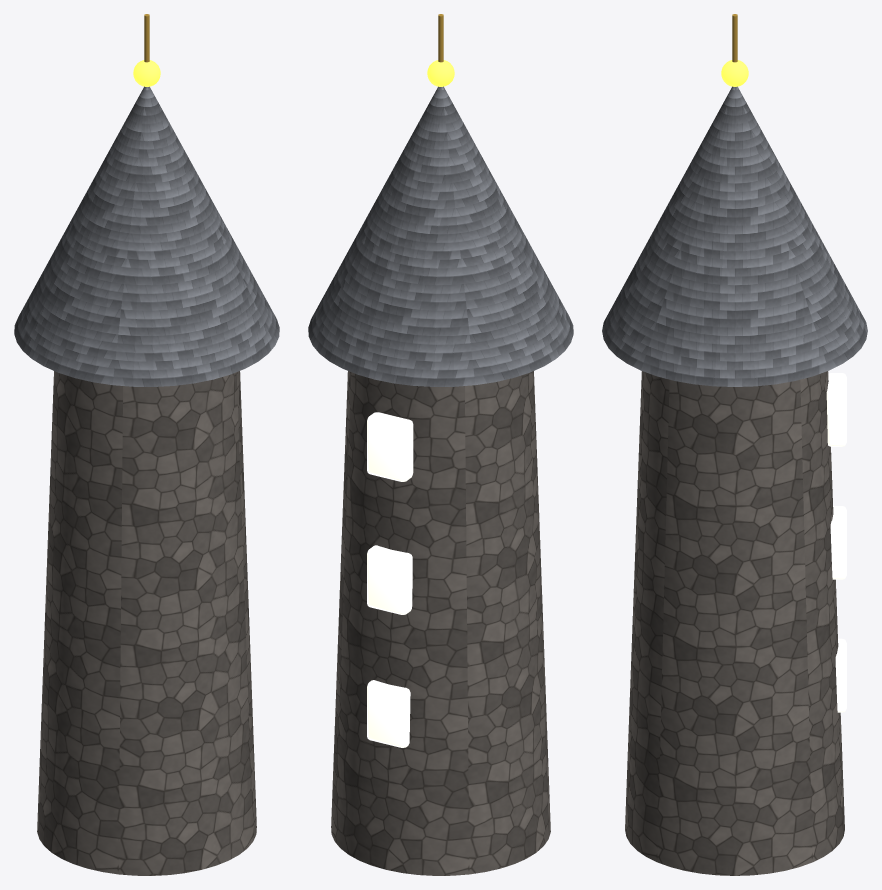
File: prop_tower.fbx
The picture shows the model from 3 angles, left to right: view 1: azimuth 30°, elevation 25°; view 2: azimuth 150°, elevation 25°; view 3: azimuth 270°, elevation 25°; orthographic projection.
Visible parts, largest first — view 1: prop_tower; view 2: prop_tower; view 3: prop_tower.
Part boxes in pixels (box(x1,y1,x2,y2)): prop_tower: box(14, 14, 279, 875); prop_tower: box(308, 14, 573, 875); prop_tower: box(602, 14, 867, 875).
Size of the model in its own units: 2.9 by 9.8 by 2.9.
